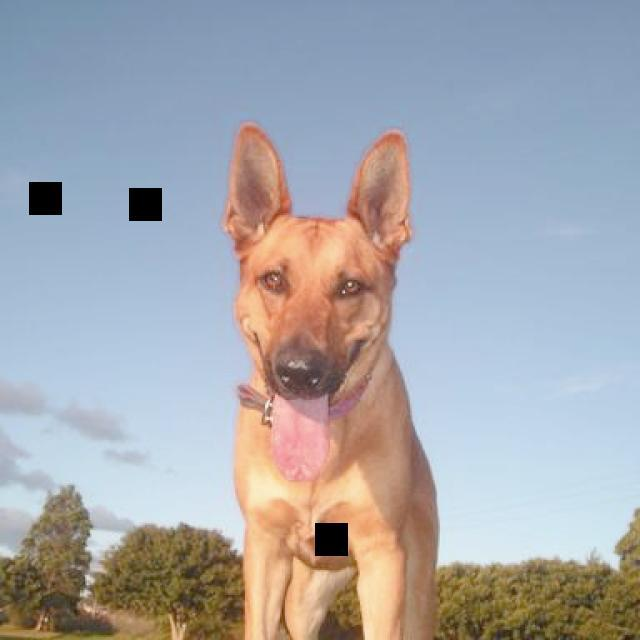adult_dog: (216, 117, 442, 640)
